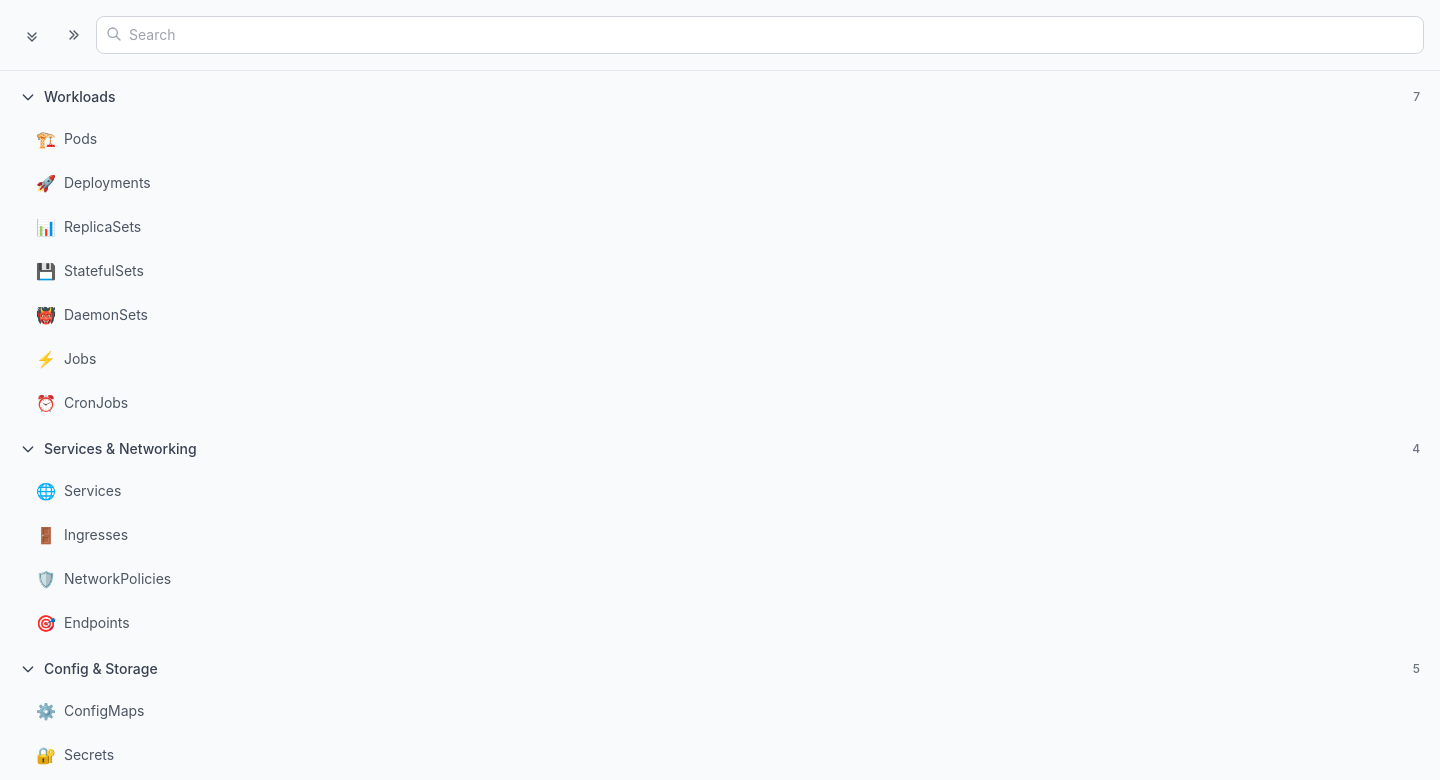
Scenario: ResourceTree › searchFilter › should filter resources by type name
In the field with placeholder "Search": (760, 35) [96,16,1424,54], type "pod"
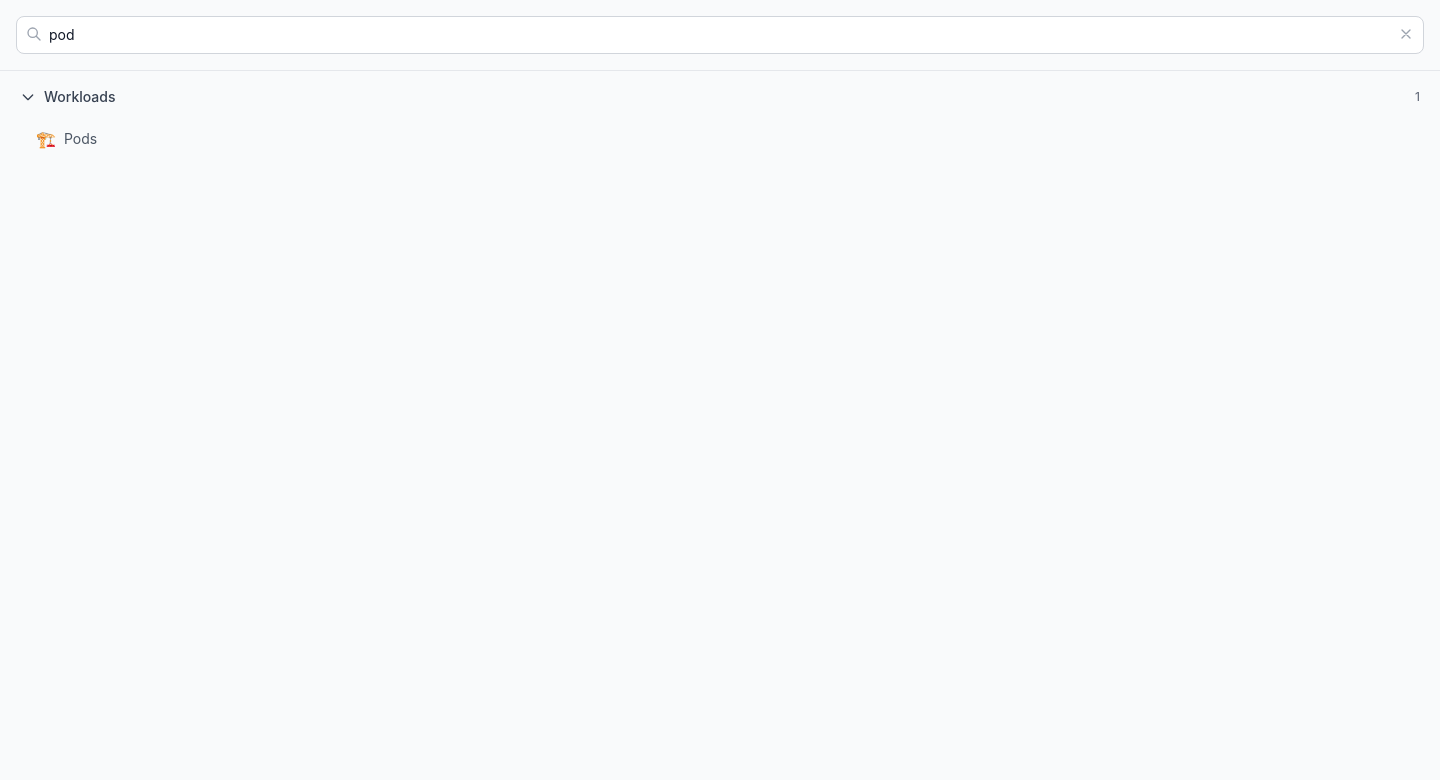
Check: the text "Pods" is shown, box [64,129,97,149]
Check: the button "Services" is gone
